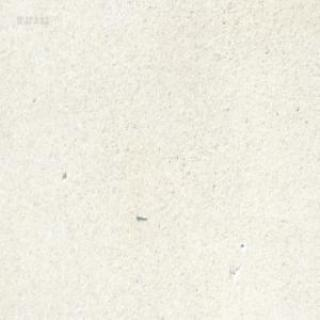Nailtrack_idkeyframe: (129, 214, 155, 225)
